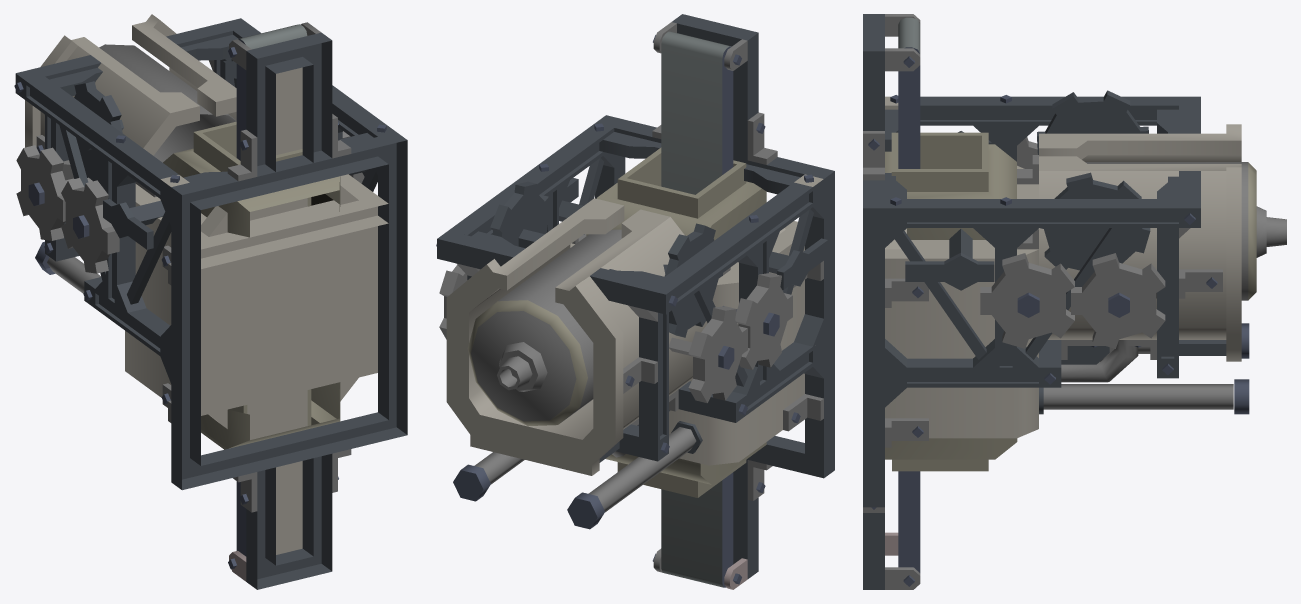
File: conveyor.fbx
The picture shows the model from 3 angles, left to right: view 1: azimuth 30°, elevation 25°; view 2: azimuth 150°, elevation 25°; view 3: azimuth 270°, elevation 25°; orthographic projection.
Parts seen in each view (by area): view 1: conveyor_1, conveyor_gear_2, conveyor_gear_1, conveyor_tank, conveyor_gear_3, conveyor_gear_4, conveyor_piston_2; view 2: conveyor_1, conveyor_tank, conveyor_gear_4, conveyor_gear_1, conveyor_gear_2, conveyor_piston_2, conveyor_gear_3, conveyor_piston_1; view 3: conveyor_1, conveyor_gear_4, conveyor_gear_2, conveyor_gear_1, conveyor_piston_1, conveyor_tank, conveyor_gear_3.
Part boxes in pixels (x1,y1,x2,y2): conveyor_1: (14,14,407,589); conveyor_gear_2: (61,131,364,273); conveyor_gear_1: (16,145,92,240); conveyor_tank: (99,44,236,162); conveyor_gear_3: (103,169,367,249); conveyor_gear_4: (74,77,236,190); conveyor_piston_2: (35,241,101,293); conveyor_1: (436,14,834,589); conveyor_tank: (467,229,621,426); conveyor_gear_4: (490,181,722,337); conveyor_gear_1: (439,265,747,403); conveyor_gear_2: (723,273,792,369); conveyor_piston_2: (567,427,696,529); conveyor_gear_3: (559,178,827,289); conveyor_piston_1: (453,452,524,501); conveyor_1: (863,14,1241,589); conveyor_gear_4: (1037,90,1150,270); conveyor_gear_2: (980,137,1074,348); conveyor_gear_1: (1071,253,1165,348); conveyor_piston_1: (1043,379,1249,414); conveyor_tank: (1085,162,1286,300); conveyor_gear_3: (905,131,994,290).
Bounding box in the file's own units: 5.7 × 10.8 × 7.7.
